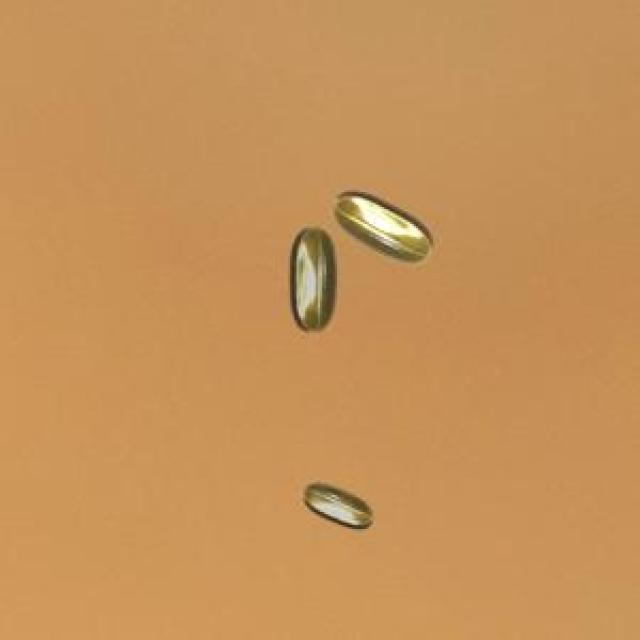Fish_Oil: (331, 174, 444, 270), (283, 226, 337, 339), (294, 473, 378, 543)
